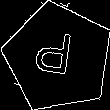P_S: (36, 30, 80, 85)
